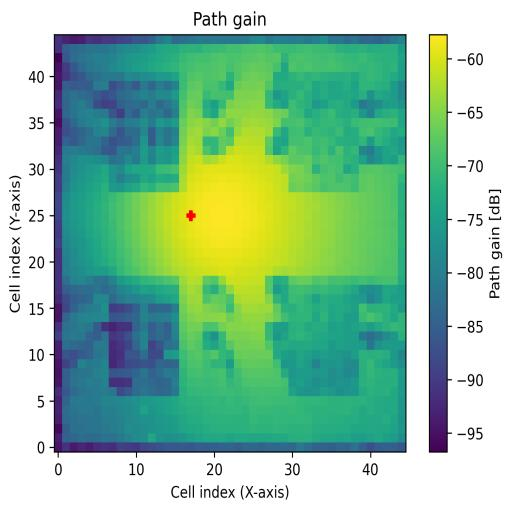Concrete: (289, 72, 359, 193)
Glass: (109, 81, 180, 193)
Metal: (290, 284, 359, 397)
Wood: (95, 277, 180, 396)
